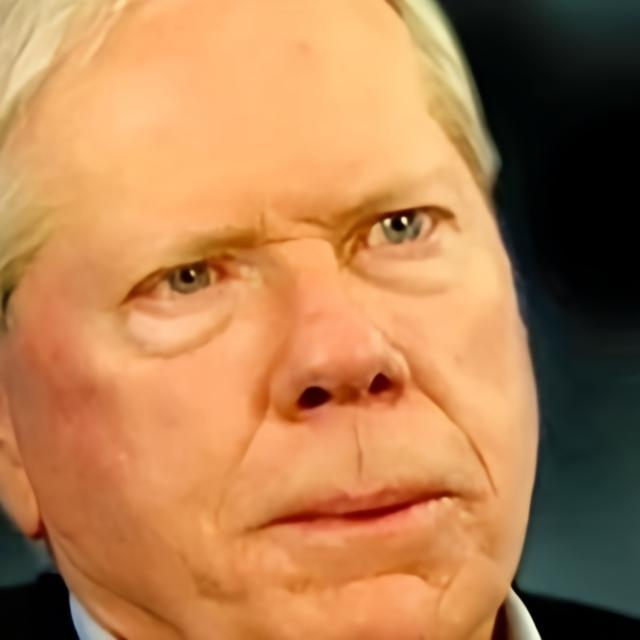anger: (44, 47, 528, 616)
